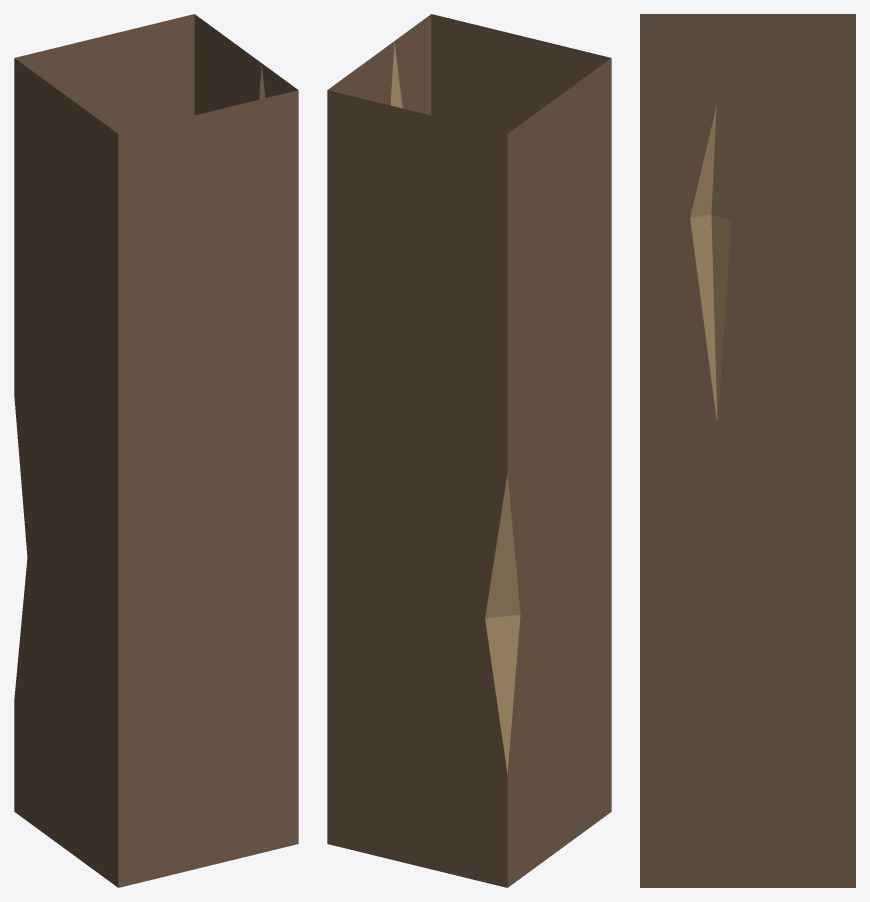
The model's file is Cave_Prop_Support_Wall_Pillar_3.obj.
The picture shows the model from 3 angles, left to right: view 1: azimuth 30°, elevation 25°; view 2: azimuth 150°, elevation 25°; view 3: azimuth 270°, elevation 25°; orthographic projection. The views are drawn at different scales.
Parts seen in each view (by area): view 1: object1; view 2: object1; view 3: object1.
Part boxes in pixels (bbox=[...]): object1: bbox=[14, 14, 298, 887]; object1: bbox=[327, 14, 611, 887]; object1: bbox=[640, 14, 855, 887].
Size of the model in its own units: 0.25 by 1 by 0.25.
